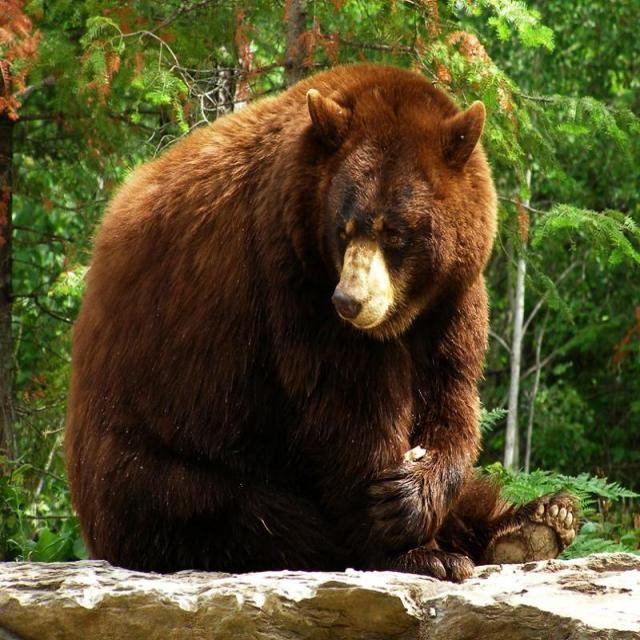Bear: (62, 62, 581, 585)
